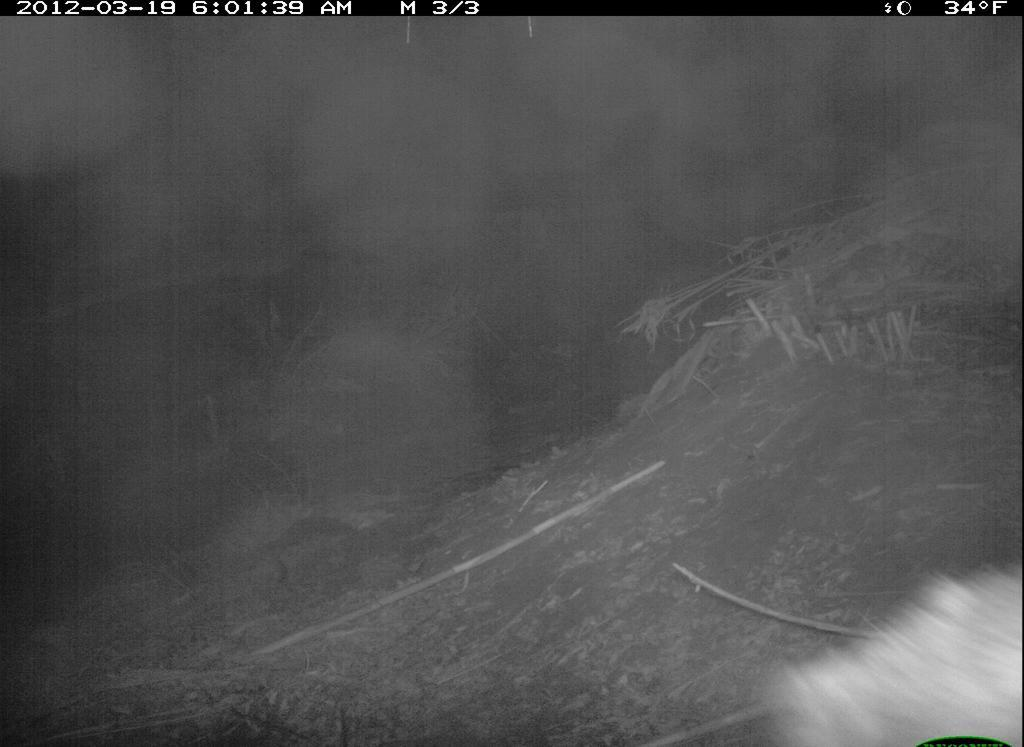coyote: (751, 545, 1019, 743)
